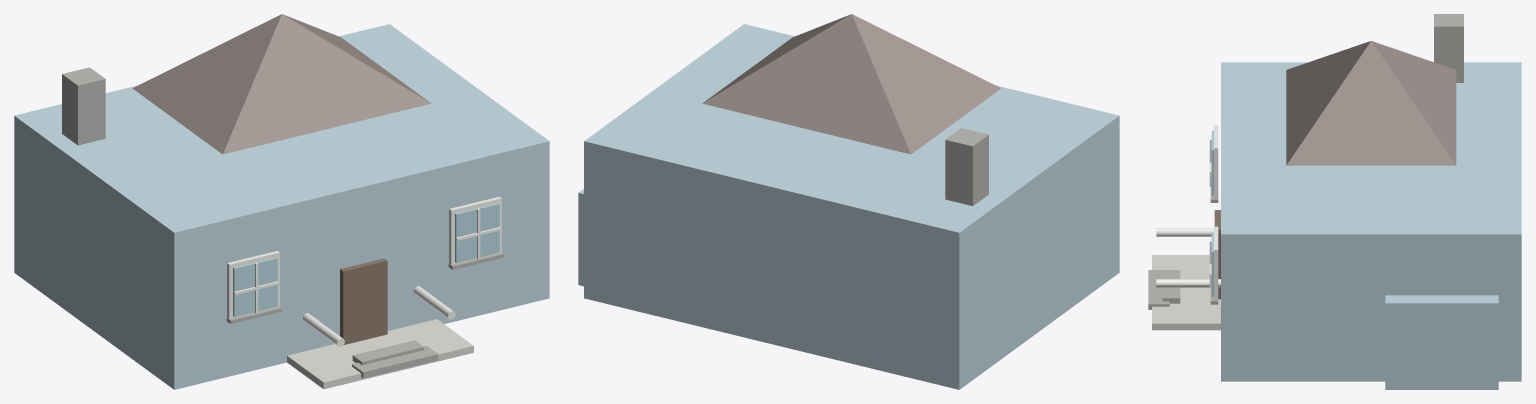
File: house_blue.glb
3 views of the same model, side by side, from view 1: azimuth 30°, elevation 25°; view 2: azimuth 150°, elevation 25°; view 3: azimuth 270°, elevation 25° (orthographic). The views are drawn at different scales.
Parts seen in each view (by area): view 1: part_00, part_01, part_03, part_02, part_18, part_05, part_10, part_16, part_04, part_09, part_17, part_15 (+1 smaller); view 2: part_00, part_01, part_18, part_19; view 3: part_00, part_01, part_19, part_03, part_18, part_16, part_14, part_15, part_17, part_04, part_09.
Boxes of the visible parts, x1,y1,x2,y2 form: part_00: (14,24,549,389); part_01: (132,14,431,154); part_03: (287,319,473,389); part_02: (340,258,387,344); part_18: (62,67,105,145); part_05: (233,257,277,317); part_10: (455,203,499,262); part_16: (352,346,438,378); part_04: (227,251,279,318); part_09: (449,196,501,264); part_17: (352,340,424,365); part_15: (413,286,455,319); part_00: (584,24,1119,389); part_01: (702,14,1000,154); part_18: (945,128,988,205); part_19: (578,189,583,286); part_00: (1221,62,1521,381); part_01: (1286,41,1456,165); part_19: (1385,295,1498,389); part_03: (1152,255,1220,330); part_18: (1434,14,1463,82); part_16: (1148,270,1169,309); part_14: (1156,228,1213,236); part_15: (1156,279,1220,287); part_17: (1162,270,1180,303); part_04: (1214,125,1218,199); part_09: (1214,226,1218,300).
Size of the model in its own units: 12.05 by 7.95 by 10.55.
